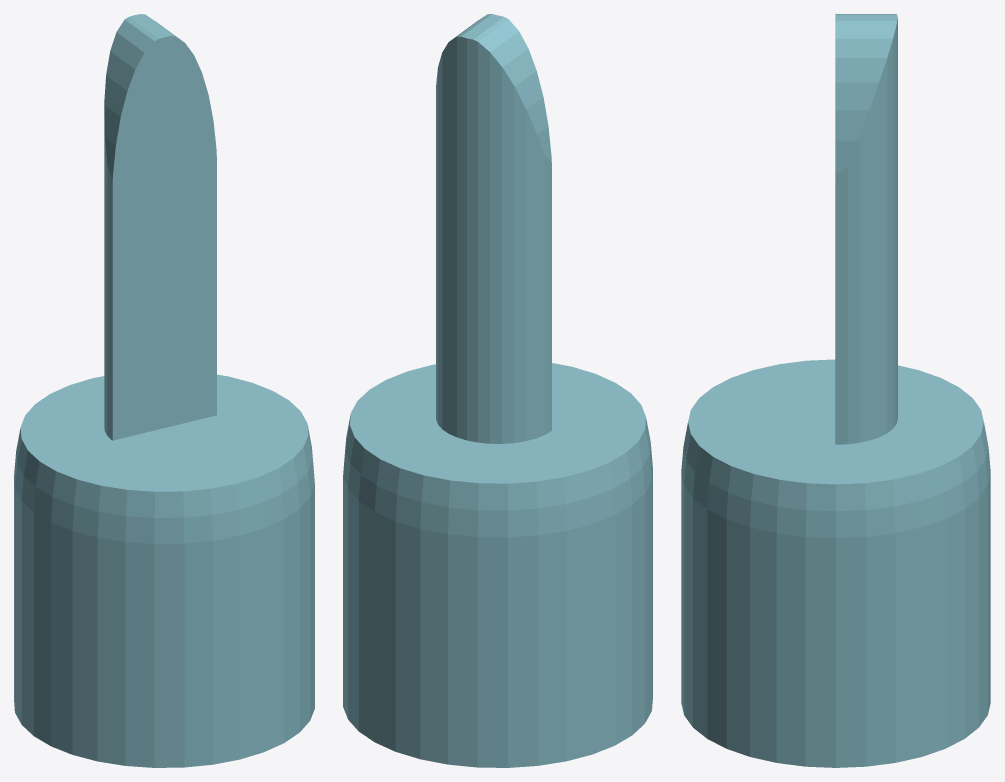
3 views of the same model, side by side, from view 1: azimuth 30°, elevation 25°; view 2: azimuth 150°, elevation 25°; view 3: azimuth 270°, elevation 25° (orthographic). The views are drawn at different scales.
Visible parts, largest first — view 1: link_1_visual; view 2: link_1_visual; view 3: link_1_visual.
Boxes of the visible parts, x1,y1,x2,y2 form: link_1_visual: (14,14,314,767); link_1_visual: (343,14,652,767); link_1_visual: (681,14,990,767).
Bounding box in the file's own units: 2 × 2 × 4.88.
